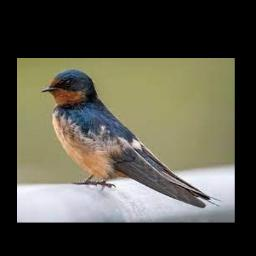Swallow: (43, 68, 221, 208)
